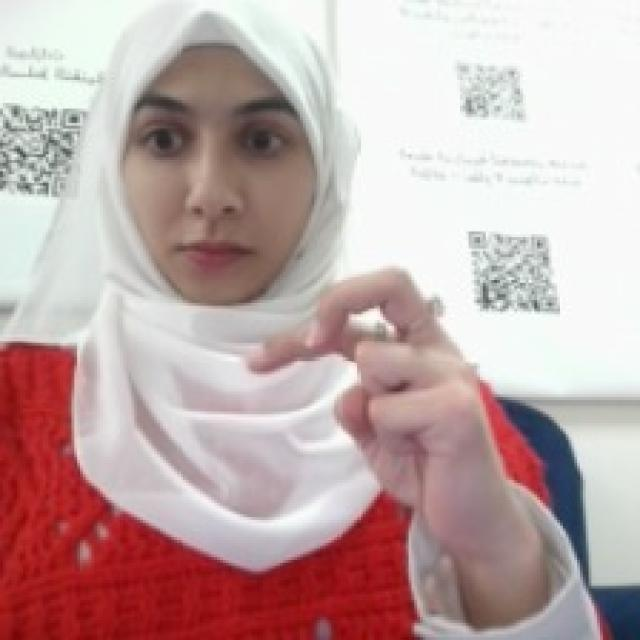sunday: (232, 248, 488, 512)
